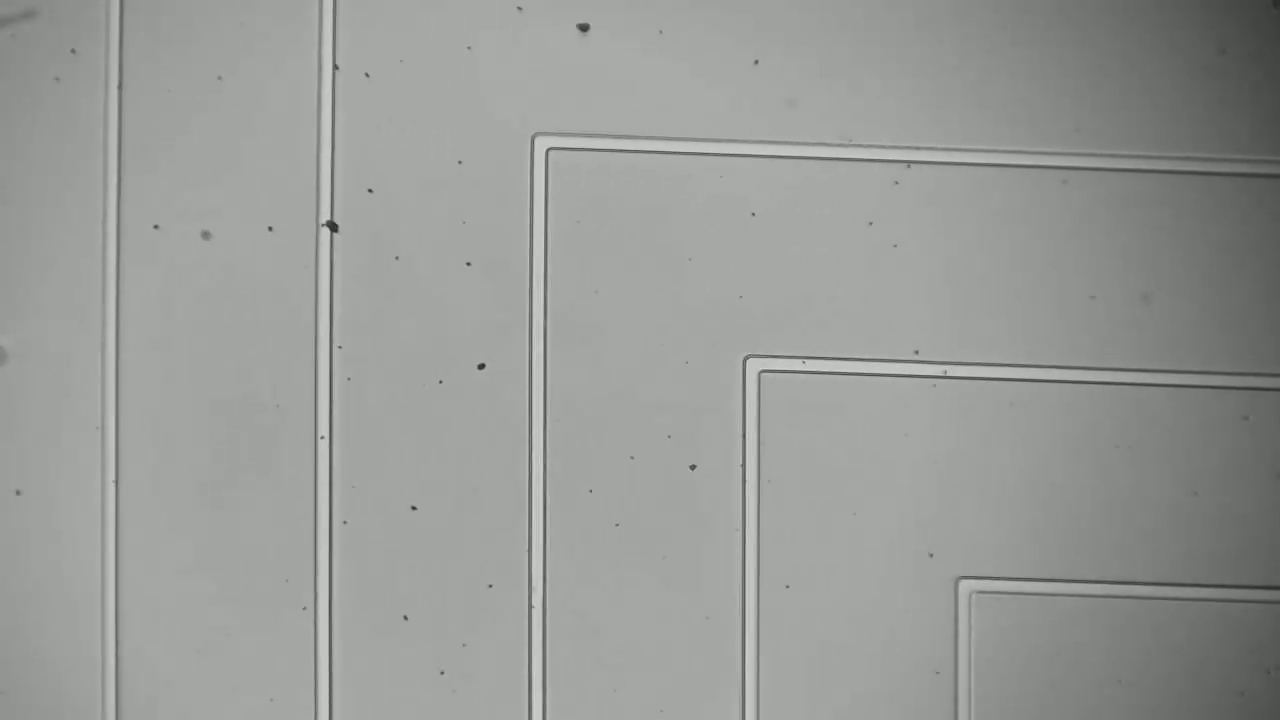stains_enbedded: (313, 216, 343, 243)
